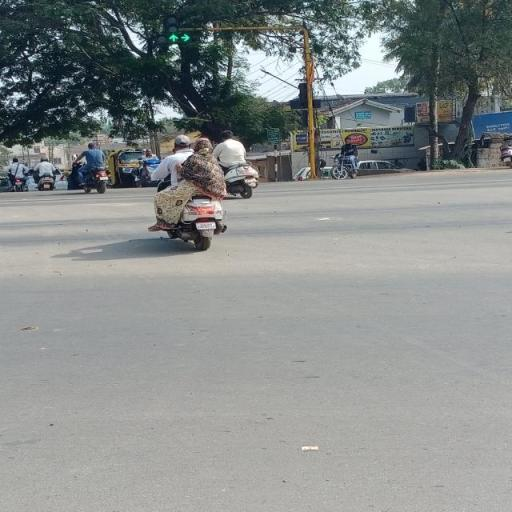bike: (148, 131, 238, 253)
numberplate: (196, 222, 217, 230)
withouthelmet: (196, 139, 214, 153), (174, 136, 190, 149)
